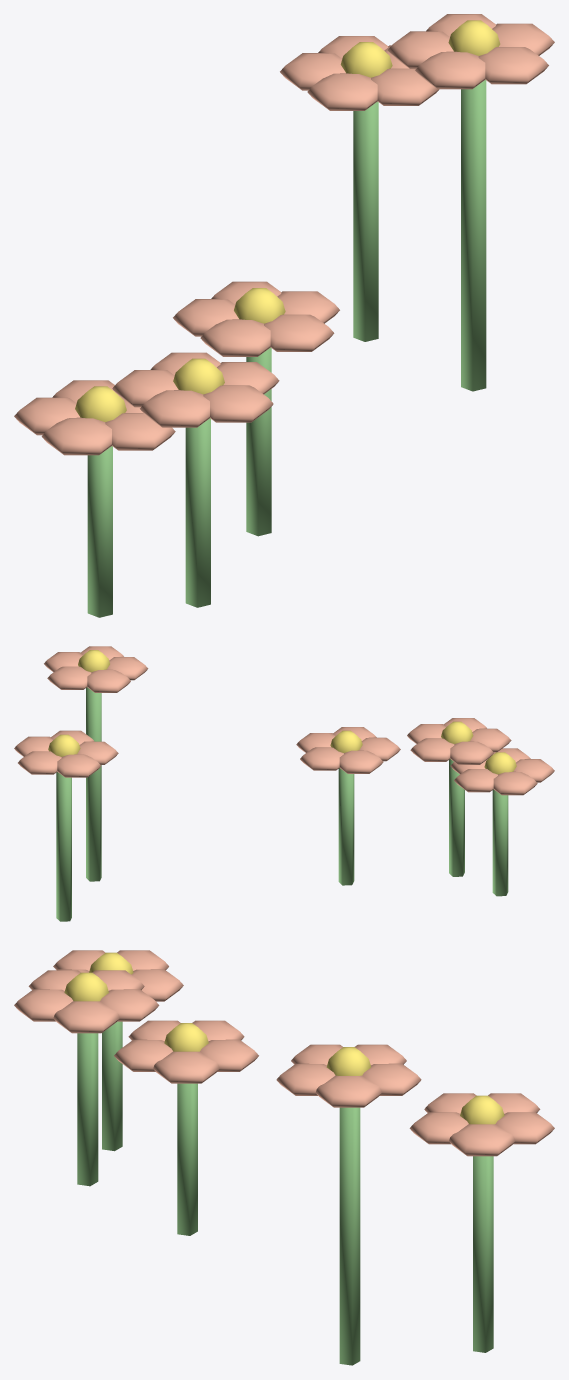
Rendered from env_jungle_flower.glb.
The picture shows the model from 3 angles, top to bottom: view 1: azimuth 30°, elevation 25°; view 2: azimuth 150°, elevation 25°; view 3: azimuth 270°, elevation 25°; orthographic projection. The views are drawn at different scales.
Visible parts, largest first — view 1: cone; view 2: cone; view 3: cone.
Part boxes in pixels (x1=…): cone: x1=14, y1=14, x2=554, y2=617; cone: x1=14, y1=646, x2=554, y2=921; cone: x1=14, y1=950, x2=554, y2=1365.
Size of the model in its own units: 1.11 by 0.6 by 0.9415.
